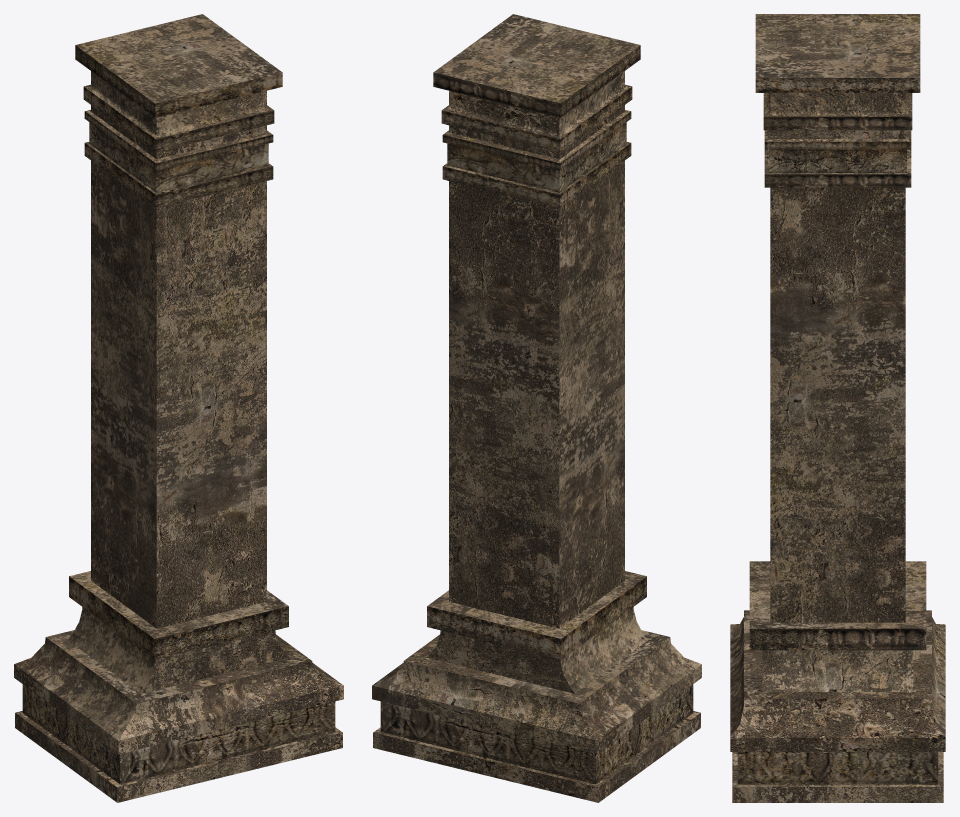
File: materials_5_pillar_long_18.fbx
3 renders of one model, left to right at view 1: azimuth 30°, elevation 25°; view 2: azimuth 150°, elevation 25°; view 3: azimuth 270°, elevation 25°, orthographic. The views are drawn at different scales.
Visible parts, largest first — view 1: materials_5_pillar_long_18; view 2: materials_5_pillar_long_18; view 3: materials_5_pillar_long_18.
Boxes of the visible parts, box(x1,y1,x2,y2) form: materials_5_pillar_long_18: box(14, 14, 343, 802); materials_5_pillar_long_18: box(372, 14, 701, 802); materials_5_pillar_long_18: box(730, 14, 945, 802).
Bounding box in the file's own units: 170 × 489 × 136.
